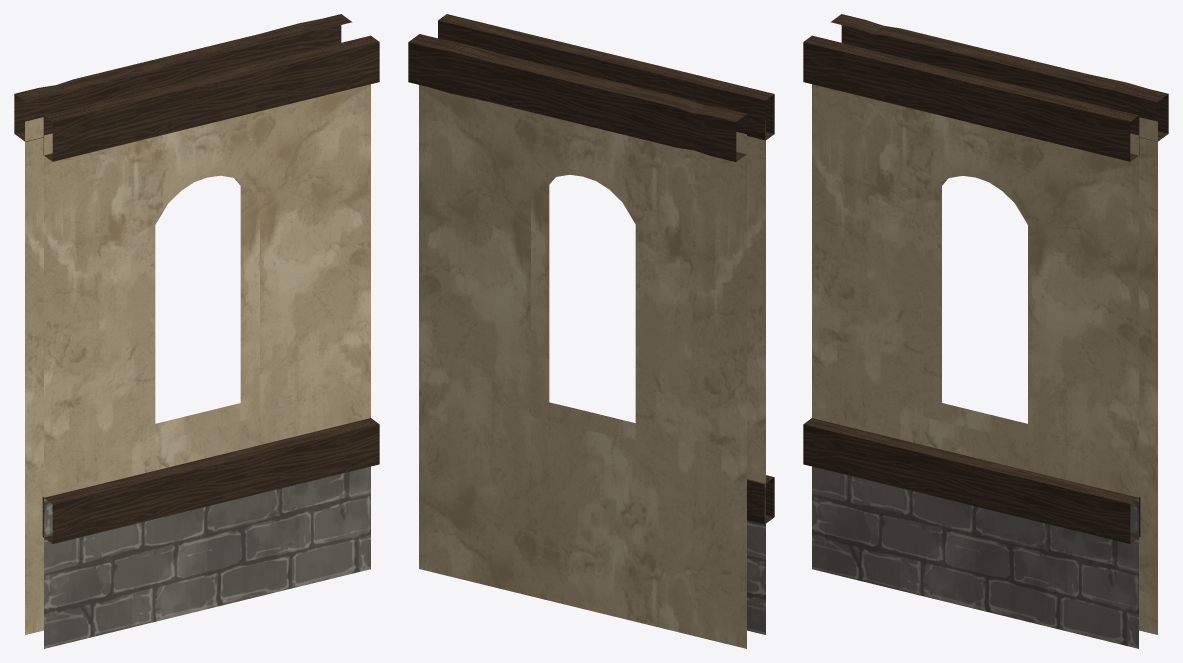
Rendered from Wall_Plaster_Window_Thin_Round.gltf.
The picture shows the model from 3 angles, left to right: view 1: azimuth 30°, elevation 25°; view 2: azimuth 150°, elevation 25°; view 3: azimuth 330°, elevation 25°; orthographic projection.
Parts seen in each view (by area): view 1: Wall_Plaster_Window_Thin_Round; view 2: Wall_Plaster_Window_Thin_Round; view 3: Wall_Plaster_Window_Thin_Round.
Part boxes in pixels (bbox=[...]): Wall_Plaster_Window_Thin_Round: bbox=[14, 14, 379, 648]; Wall_Plaster_Window_Thin_Round: bbox=[408, 14, 774, 648]; Wall_Plaster_Window_Thin_Round: bbox=[803, 14, 1168, 648].
Bounding box in the file's own units: 2 × 3.12 × 0.4065.
Materials: 3 (3 with a texture image).
